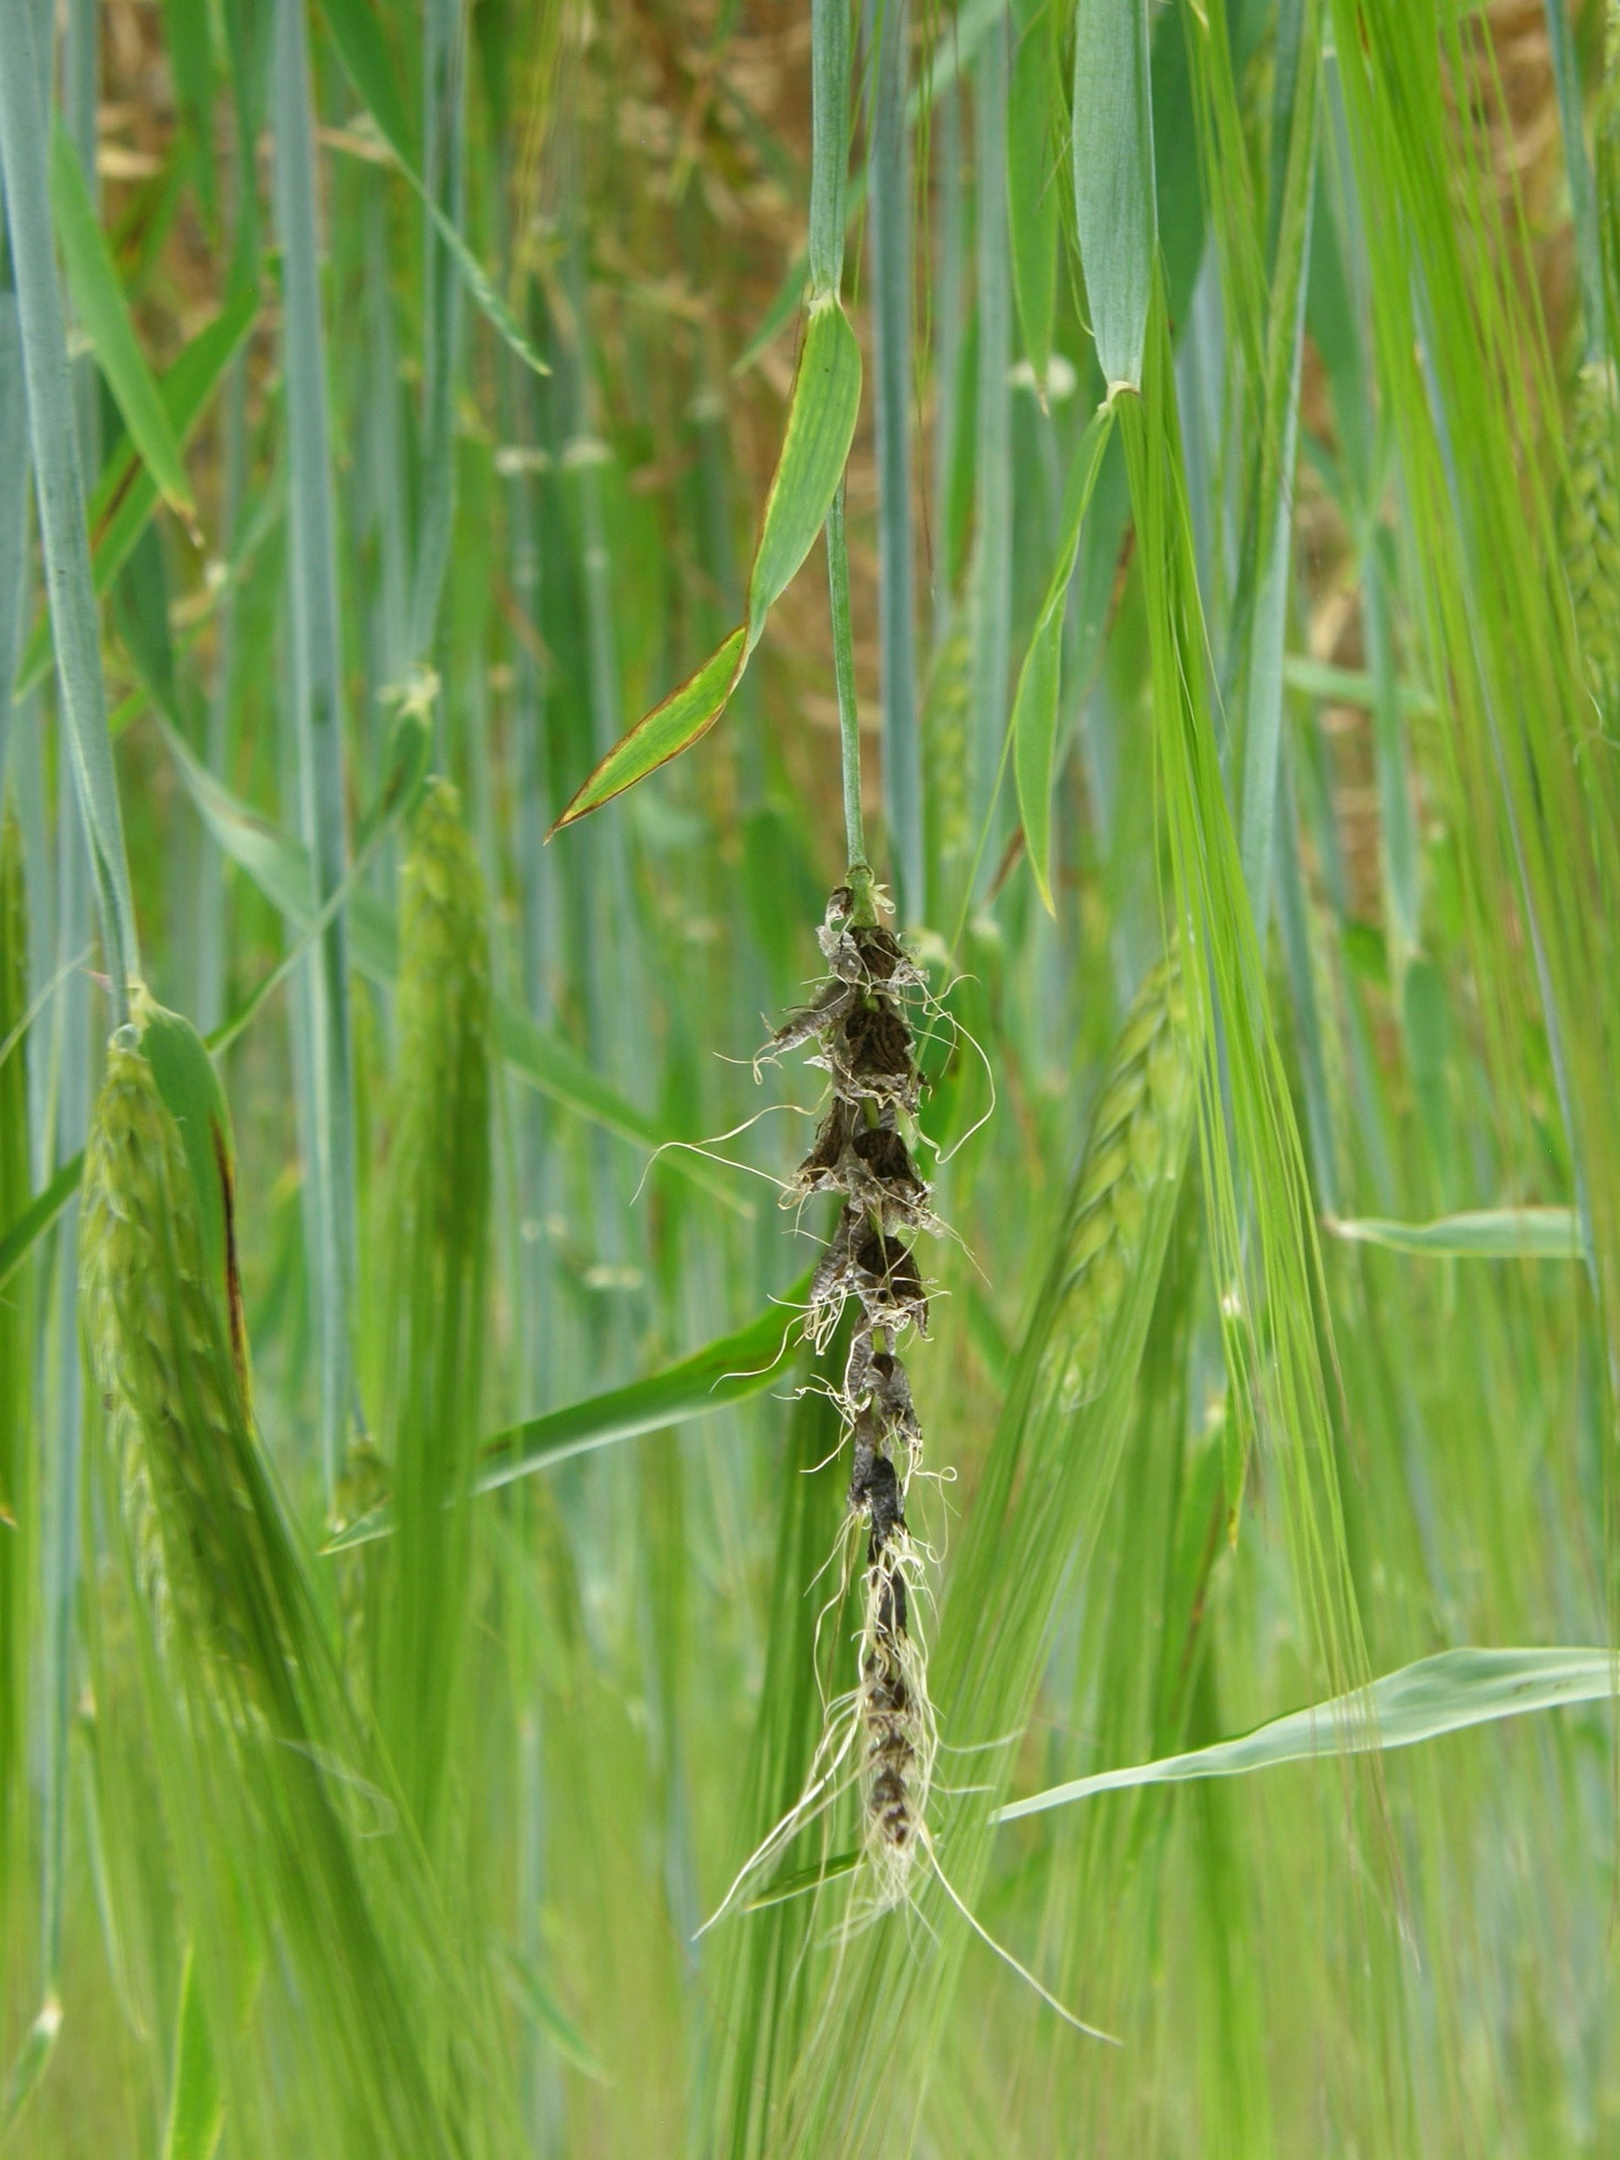Wheat Loose Smut: (720, 866, 997, 1869)
